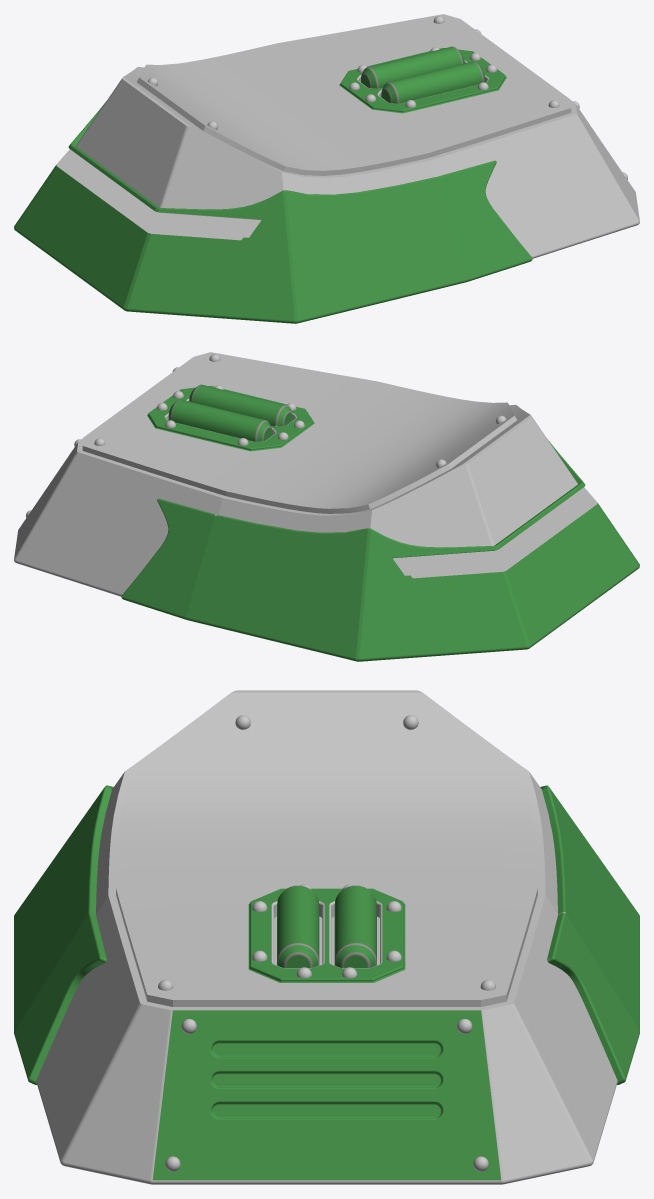
The model's file is theActualBot v4.fbx.
3 views of the same model, one above another, from view 1: azimuth 30°, elevation 25°; view 2: azimuth 150°, elevation 25°; view 3: azimuth 270°, elevation 25° (orthographic). The views are drawn at different scales.
Parts seen in each view (by area): view 1: Body1; view 2: Body1; view 3: Body1.
Boxes of the visible parts, <box> form: Body1: <box>14,14,639,323</box>; Body1: <box>14,352,639,661</box>; Body1: <box>14,690,639,1184</box>.
Bounding box in the file's own units: 106 × 32.1 × 81.5.
